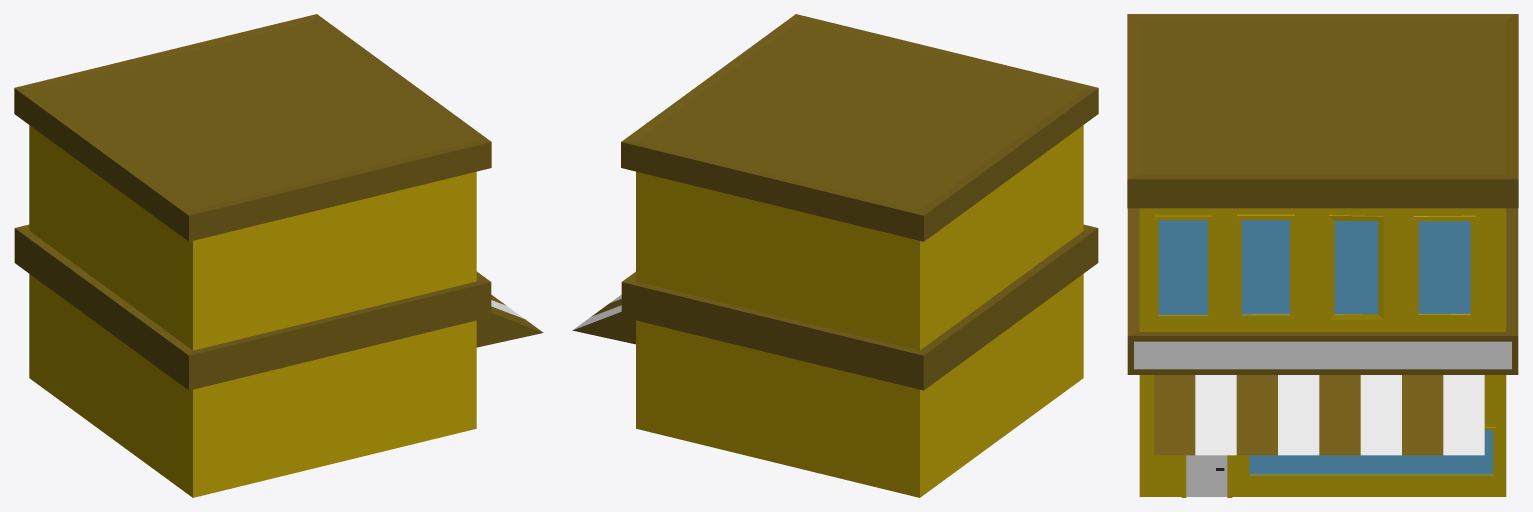
File: yellow shop.fbx
3 renders of one model, left to right at view 1: azimuth 30°, elevation 25°; view 2: azimuth 150°, elevation 25°; view 3: azimuth 270°, elevation 25°, orthographic. The views are drawn at different scales.
Visible parts, largest first — view 1: Cube; view 2: Cube; view 3: Cube.
Boxes of the visible parts, x1=… form: Cube: x1=14, y1=14, x2=543, y2=497; Cube: x1=572, y1=14, x2=1098, y2=497; Cube: x1=1127, y1=14, x2=1518, y2=497.
Bounding box in the file's own units: 259 × 194 × 213.
